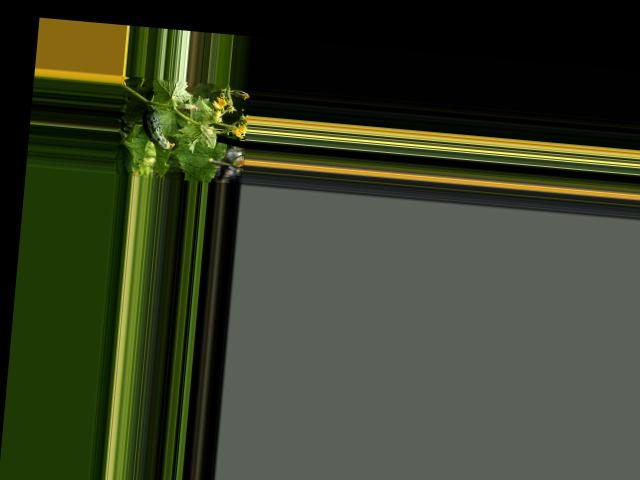cucumber: (140, 107, 178, 150)
